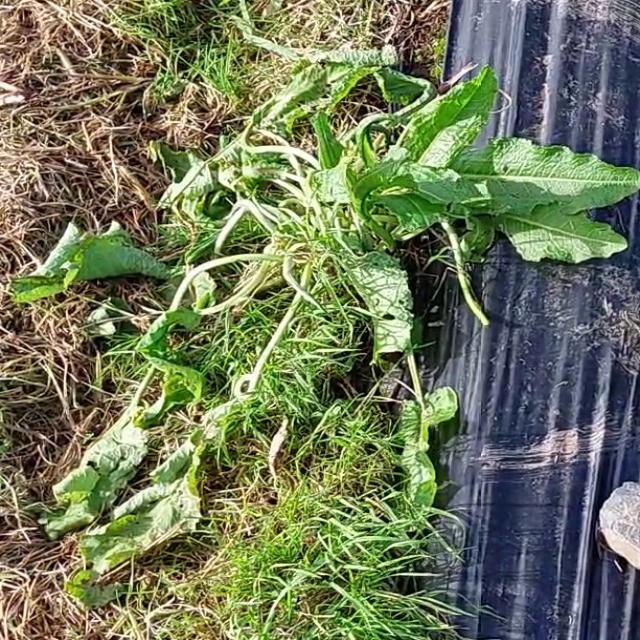organic waste: (11, 60, 640, 603)
